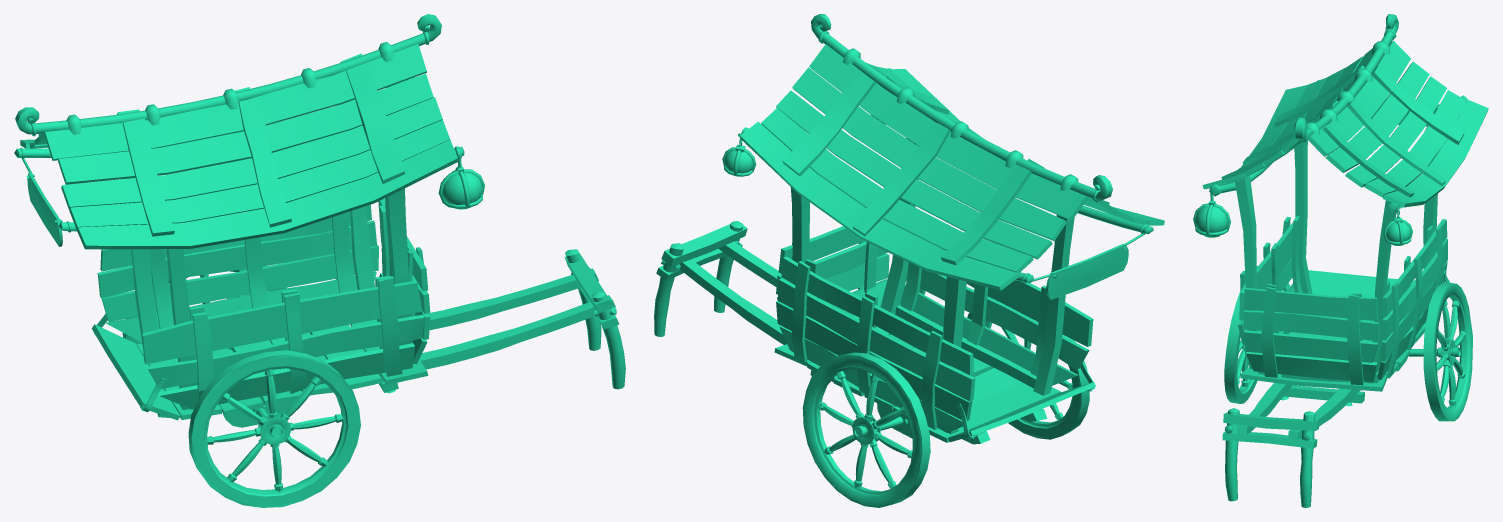
Rendered from Cart.glb.
The picture shows the model from 3 angles, left to right: view 1: azimuth 30°, elevation 25°; view 2: azimuth 150°, elevation 25°; view 3: azimuth 270°, elevation 25°; orthographic projection. The views are drawn at different scales.
Parts seen in each view (by area): view 1: cart_OBJ; view 2: cart_OBJ; view 3: cart_OBJ.
Boxes of the visible parts, left/top/right/bottom form: cart_OBJ: left=14, top=14, right=625, bottom=507; cart_OBJ: left=654, top=14, right=1164, bottom=507; cart_OBJ: left=1193, top=14, right=1488, bottom=507.
Bounding box in the file's own units: 11.58 × 8.72 × 6.57.
